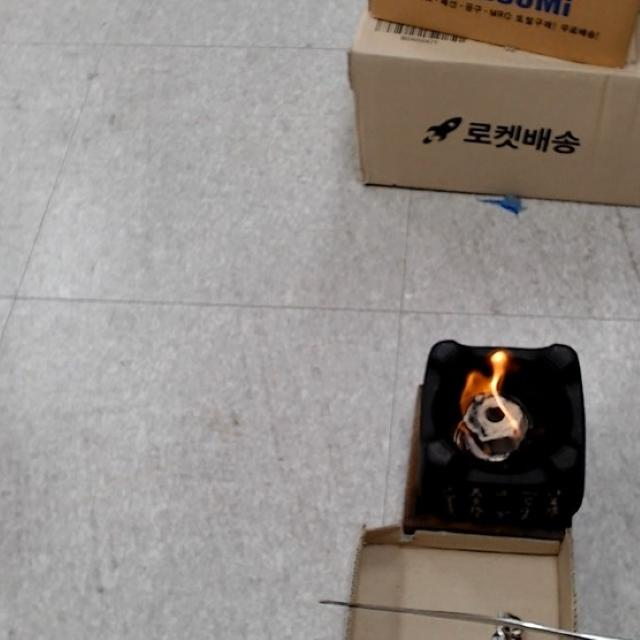Fire: (457, 347, 526, 449)
